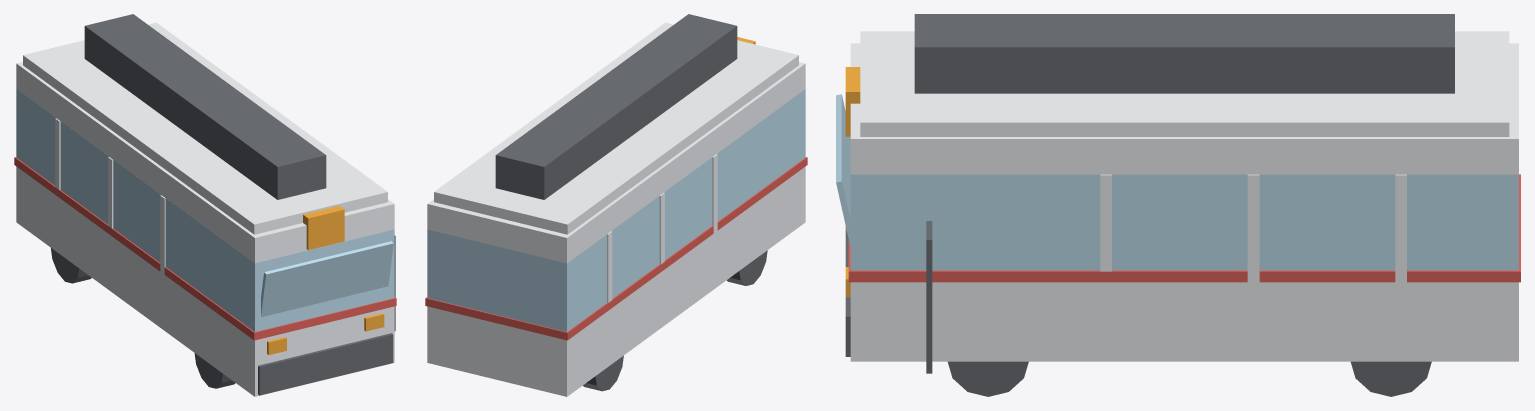
Rendered from shuttle.glb.
3 renders of one model, left to right at view 1: azimuth 30°, elevation 25°; view 2: azimuth 150°, elevation 25°; view 3: azimuth 270°, elevation 25°, orthographic. The views are drawn at different scales.
Parts seen in each view (by area): view 1: shuttle-bus; view 2: shuttle-bus; view 3: shuttle-bus.
Part boxes in pixels (left/top/right/bottom): shuttle-bus: left=14, top=14, right=396, bottom=396; shuttle-bus: left=425, top=14, right=807, bottom=396; shuttle-bus: left=836, top=14, right=1520, bottom=396.
Bounding box in the file's own units: 2.78 × 3.6 × 6.97.
